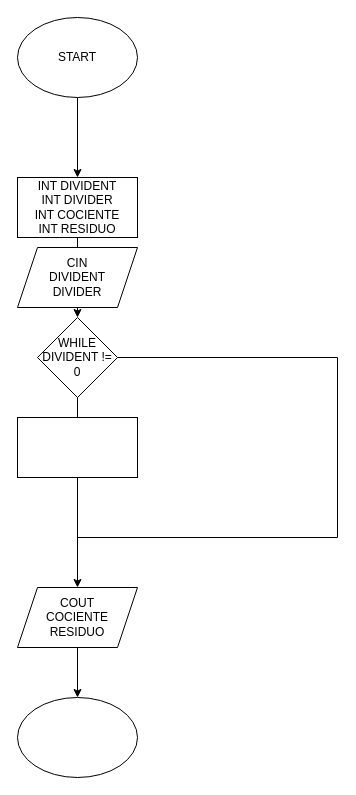
Some shapes in this 356 by 795 pixel diagram are drawn without their labels. The shapes that lost their labels are listed below. From the top down, each one's box as (x1, y1, x2, y2) in pixels, then its label:
(16, 416, 138, 478): DIVIDENT - DIVIDER COCIENTE += 1
(16, 696, 138, 778): END
